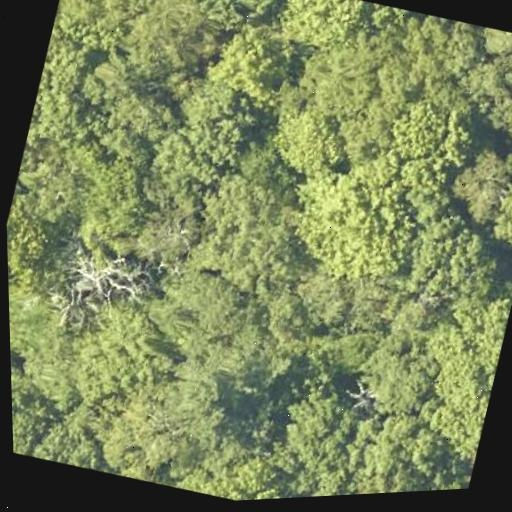tree-top: (265, 0, 506, 203), (274, 137, 447, 302), (126, 326, 273, 468), (182, 157, 317, 304), (408, 277, 512, 457), (57, 142, 168, 271), (261, 371, 372, 499), (188, 13, 297, 139), (21, 1, 104, 155), (12, 385, 136, 481), (150, 425, 298, 505), (69, 302, 172, 416), (395, 205, 502, 311), (339, 318, 438, 428), (327, 422, 468, 496), (9, 285, 94, 407), (105, 0, 222, 88), (121, 169, 213, 275), (260, 92, 357, 191), (442, 132, 512, 247), (97, 82, 185, 170), (51, 0, 172, 54), (153, 0, 280, 46), (271, 0, 366, 61), (163, 113, 238, 190), (59, 238, 133, 310), (6, 204, 56, 308), (458, 22, 512, 112), (287, 265, 353, 338)
